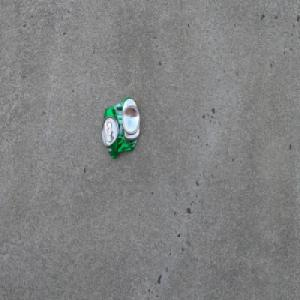SodaCan: (101, 96, 141, 160)
